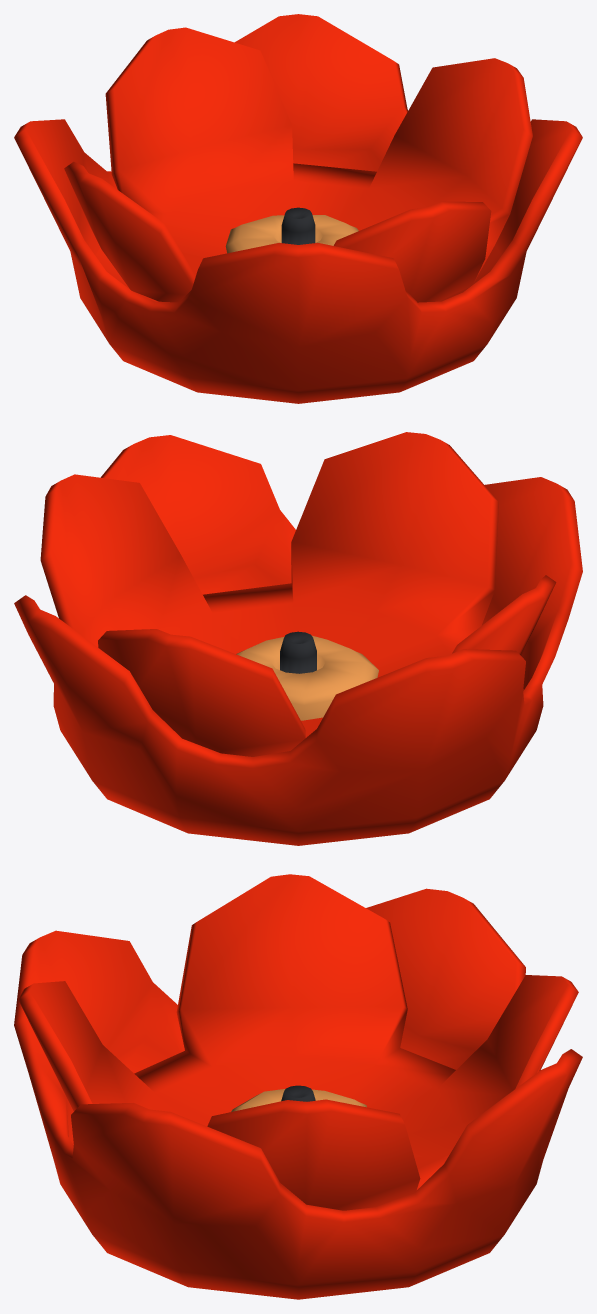
The model's file is Flower_1.fbx.
3 views of the same model, one above another, from view 1: azimuth 30°, elevation 25°; view 2: azimuth 150°, elevation 25°; view 3: azimuth 270°, elevation 25° (orthographic). The views are drawn at different scales.
Parts seen in each view (by area): view 1: Flower_1; view 2: Flower_1; view 3: Flower_1.
Part boxes in pixels (left/top/right/bottom): Flower_1: left=14, top=14, right=582, bottom=403; Flower_1: left=14, top=432, right=582, bottom=845; Flower_1: left=14, top=874, right=582, bottom=1299.
Bounding box in the file's own units: 25.06 × 10.61 × 25.06.
